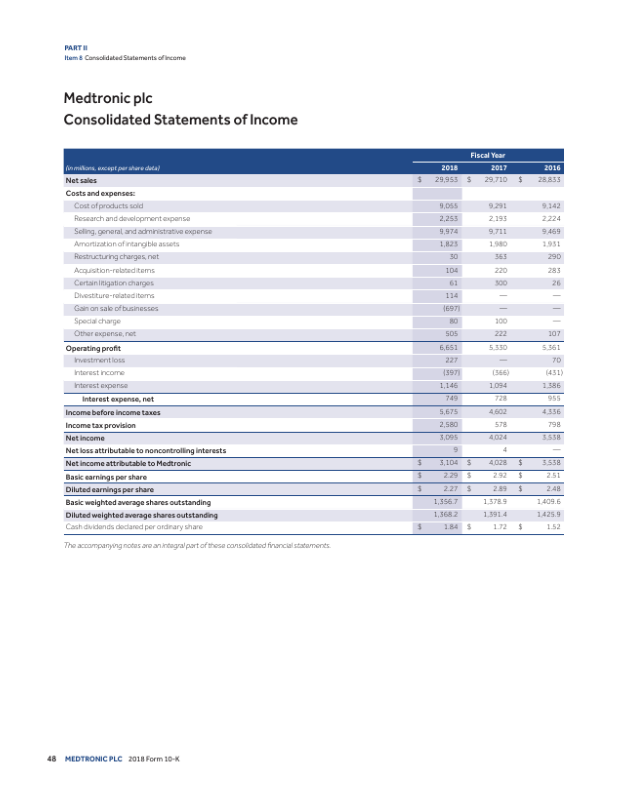table: (64, 151, 561, 537)
